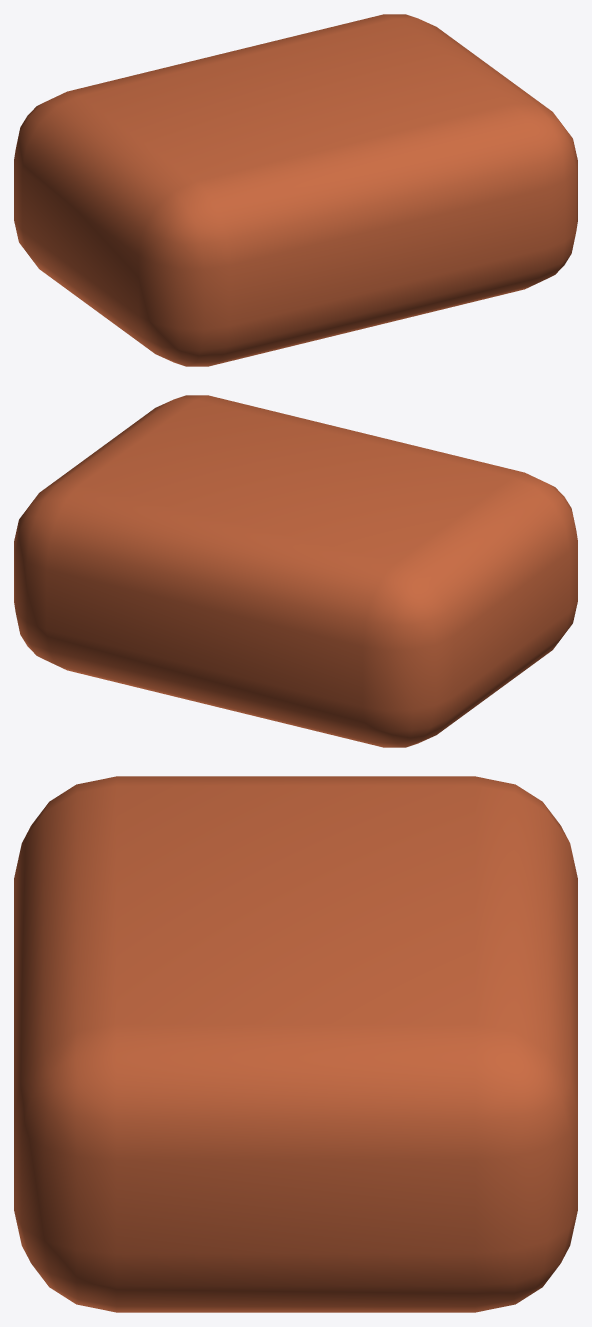
The model's file is concrete_vibrator_power_switch.glb.
3 renders of one model, top to bottom at view 1: azimuth 30°, elevation 25°; view 2: azimuth 150°, elevation 25°; view 3: azimuth 270°, elevation 25°, orthographic. The views are drawn at different scales.
Parts seen in each view (by area): view 1: concrete_vibrator_power_switch; view 2: concrete_vibrator_power_switch; view 3: concrete_vibrator_power_switch.
Part boxes in pixels (bbox=[...]): concrete_vibrator_power_switch: bbox=[14, 14, 577, 366]; concrete_vibrator_power_switch: bbox=[14, 395, 577, 747]; concrete_vibrator_power_switch: bbox=[14, 776, 577, 1312].
Bounding box in the file's own units: 0.03 × 0.012 × 0.022.
